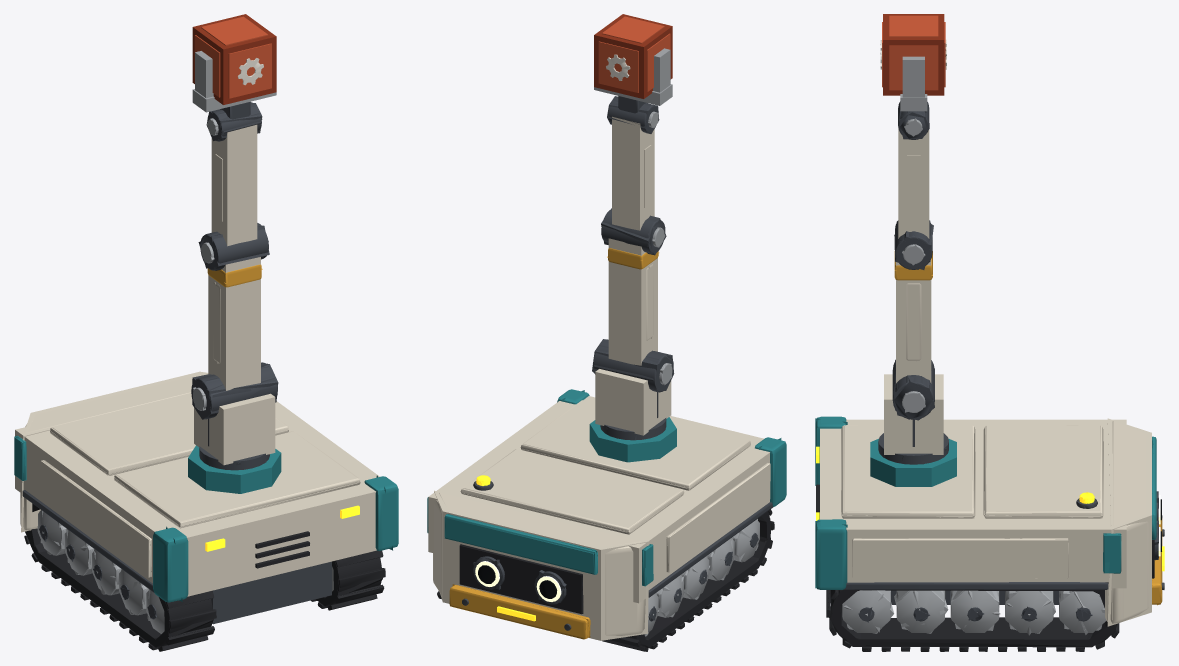
The picture shows the model from 3 angles, left to right: view 1: azimuth 30°, elevation 25°; view 2: azimuth 150°, elevation 25°; view 3: azimuth 270°, elevation 25°; orthographic projection. The views are drawn at different scales.
Visible parts, largest first — view 1: L0_cuerpo_malla, L1_cuerpo_malla, L2_cuerpo_malla, L0_RobotTransporte_malla, L0_hombro_malla, L2_torreta_malla, L2_RobotTransporte_malla, L2_carga_malla, L0_codo_malla, L2_hombro_malla, L0_torreta_malla, L2_codo_malla (+8 smaller); view 2: L0_cuerpo_malla, L1_cuerpo_malla, L2_cuerpo_malla, L2_torreta_malla, L0_hombro_malla, L2_codo_malla, L0_RobotTransporte_malla, L2_carga_malla, L2_hombro_malla, L2_RobotTransporte_malla, L1_carga_malla, L0_torreta_malla (+9 smaller); view 3: L0_cuerpo_malla, L1_cuerpo_malla, L0_RobotTransporte_malla, L2_cuerpo_malla, L2_RobotTransporte_malla, L2_torreta_malla, L2_carga_malla, L0_hombro_malla, L2_codo_malla, L1_RobotTransporte_malla, L1_carga_malla, L2_hombro_malla (+10 smaller).
Part boxes in pixels (x1=…): L0_cuerpo_malla: x1=14, y1=406, x2=398, y2=617; L1_cuerpo_malla: x1=14, y1=374, x2=359, y2=577; L2_cuerpo_malla: x1=15, y1=371, x2=392, y2=624; L0_RobotTransporte_malla: x1=24, y1=503, x2=385, y2=651; L0_hombro_malla: x1=191, y1=258, x2=277, y2=418; L2_torreta_malla: x1=188, y1=393, x2=281, y2=493; L2_RobotTransporte_malla: x1=24, y1=504, x2=384, y2=647; L2_carga_malla: x1=192, y1=14, x2=276, y2=104; L0_codo_malla: x1=200, y1=131, x2=268, y2=270; L2_hombro_malla: x1=192, y1=257, x2=278, y2=419; L0_torreta_malla: x1=190, y1=407, x2=276, y2=488; L2_codo_malla: x1=198, y1=124, x2=269, y2=268; L0_cuerpo_malla: x1=427, y1=389, x2=786, y2=639; L1_cuerpo_malla: x1=428, y1=400, x2=767, y2=636; L2_cuerpo_malla: x1=428, y1=390, x2=781, y2=640; L2_torreta_malla: x1=589, y1=369, x2=676, y2=462; L0_hombro_malla: x1=593, y1=241, x2=673, y2=392; L2_codo_malla: x1=601, y1=116, x2=666, y2=255; L0_RobotTransporte_malla: x1=437, y1=509, x2=774, y2=651; L2_carga_malla: x1=594, y1=14, x2=672, y2=98; L2_hombro_malla: x1=592, y1=238, x2=674, y2=390; L2_RobotTransporte_malla: x1=626, y1=510, x2=774, y2=648; L1_carga_malla: x1=599, y1=17, x2=669, y2=91; L0_torreta_malla: x1=594, y1=370, x2=674, y2=458; L0_cuerpo_malla: x1=815, y1=416, x2=1164, y2=623; L1_cuerpo_malla: x1=841, y1=421, x2=1161, y2=620; L0_RobotTransporte_malla: x1=826, y1=589, x2=1119, y2=651; L2_cuerpo_malla: x1=815, y1=418, x2=1158, y2=626; L2_RobotTransporte_malla: x1=828, y1=589, x2=1115, y2=650; L2_torreta_malla: x1=870, y1=374, x2=956, y2=486; L2_carga_malla: x1=882, y1=14, x2=945, y2=95; L0_hombro_malla: x1=892, y1=251, x2=934, y2=419; L2_codo_malla: x1=894, y1=128, x2=933, y2=269; L1_RobotTransporte_malla: x1=831, y1=590, x2=1117, y2=645; L1_carga_malla: x1=881, y1=16, x2=946, y2=89; L2_hombro_malla: x1=893, y1=259, x2=934, y2=420.
Bounding box in the file's own units: 0.748 × 1.75 × 0.9683.
